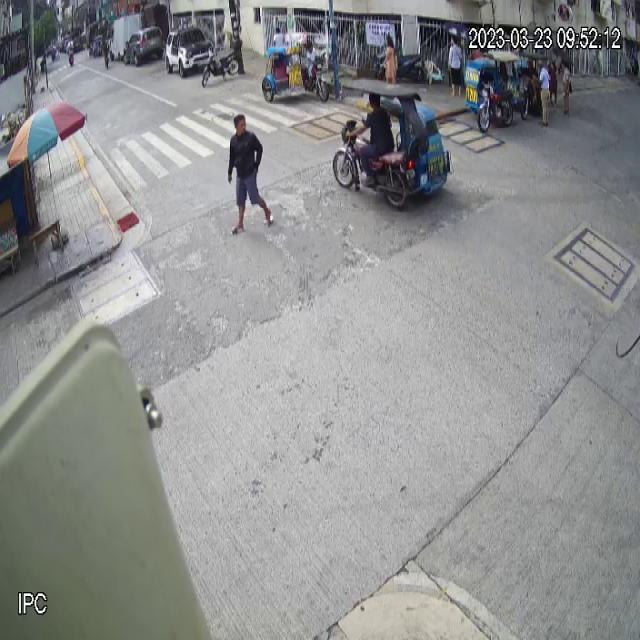Tricycle: (331, 74, 454, 210), (463, 50, 520, 134), (262, 33, 329, 103)
